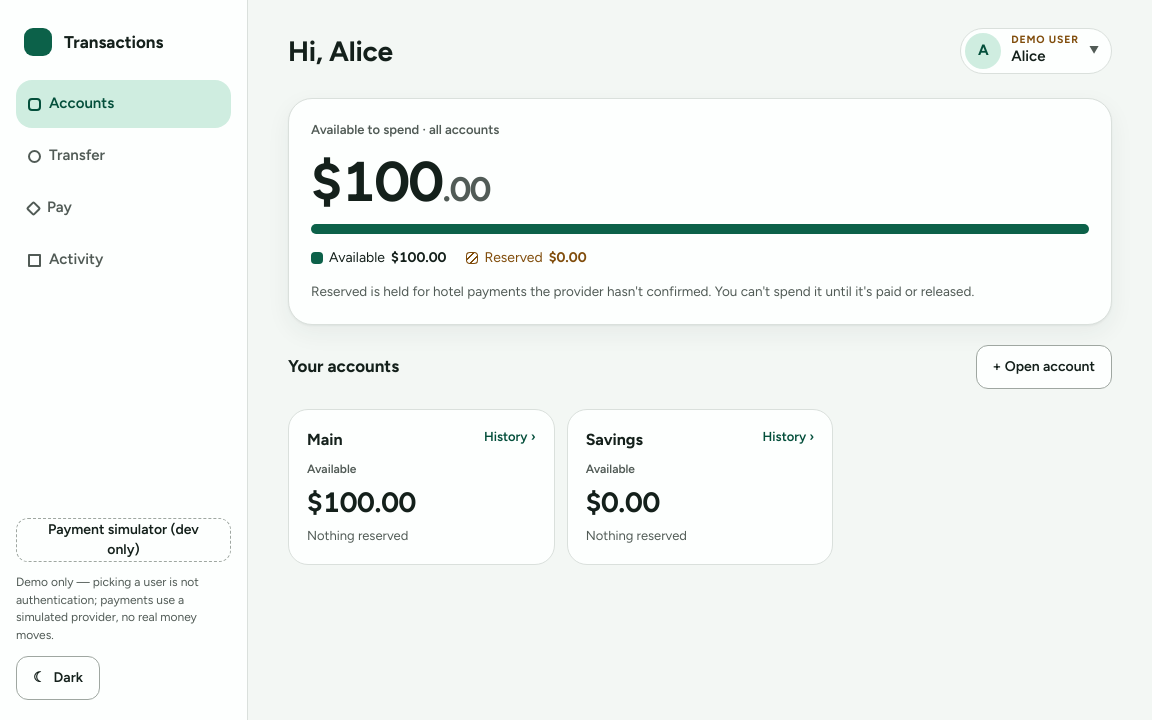
Calm wallet UI › 1: shows the demo identity chip and the exact demo notice
Expected: the heading "Hi, Alice" is shown, 288,31 -> 393,71
Expected: the element named "Balance summary" is shown, 288,98 -> 1112,325
Click the button with aria-label "Demo user: Alice". click: (1036, 51)
box: 960,28 -> 1112,74
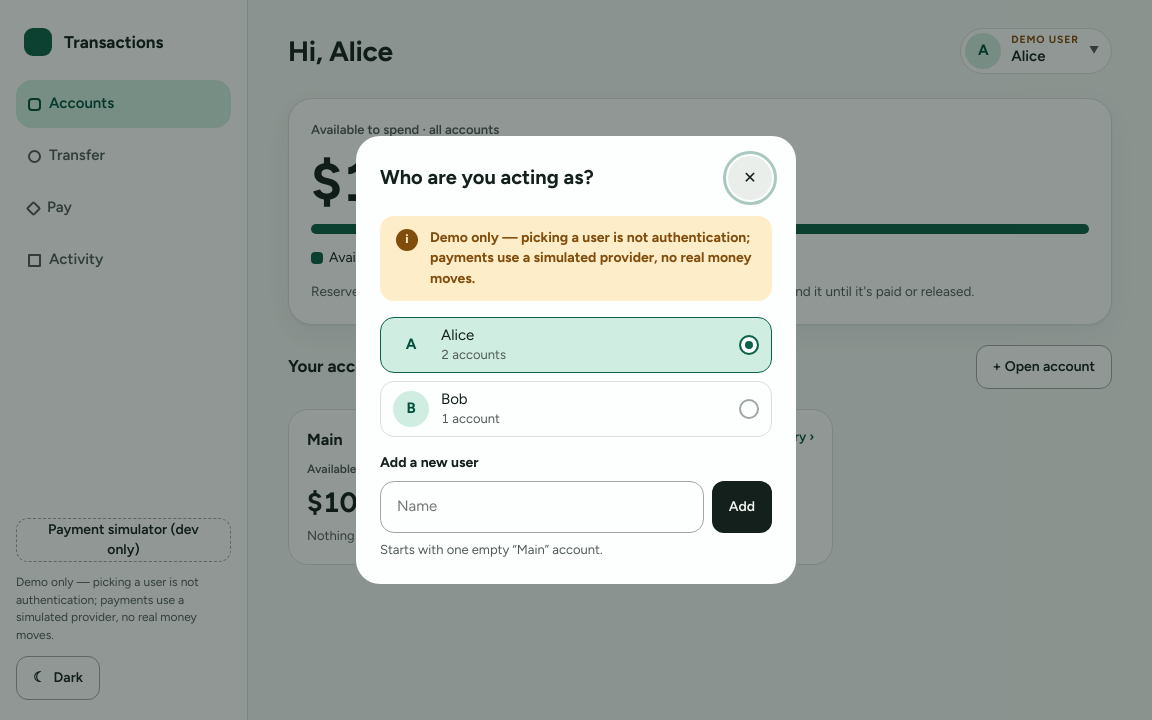
Now the text "Demo only — picking a user is not authentication; payments use a simulated provider, no real money moves." is shown, box 430,229 -> 752,287
